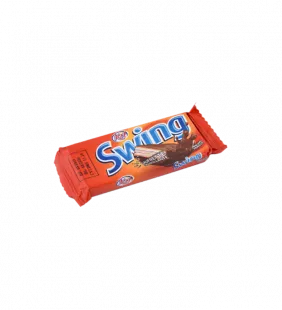SWING: (45, 92, 236, 212)
